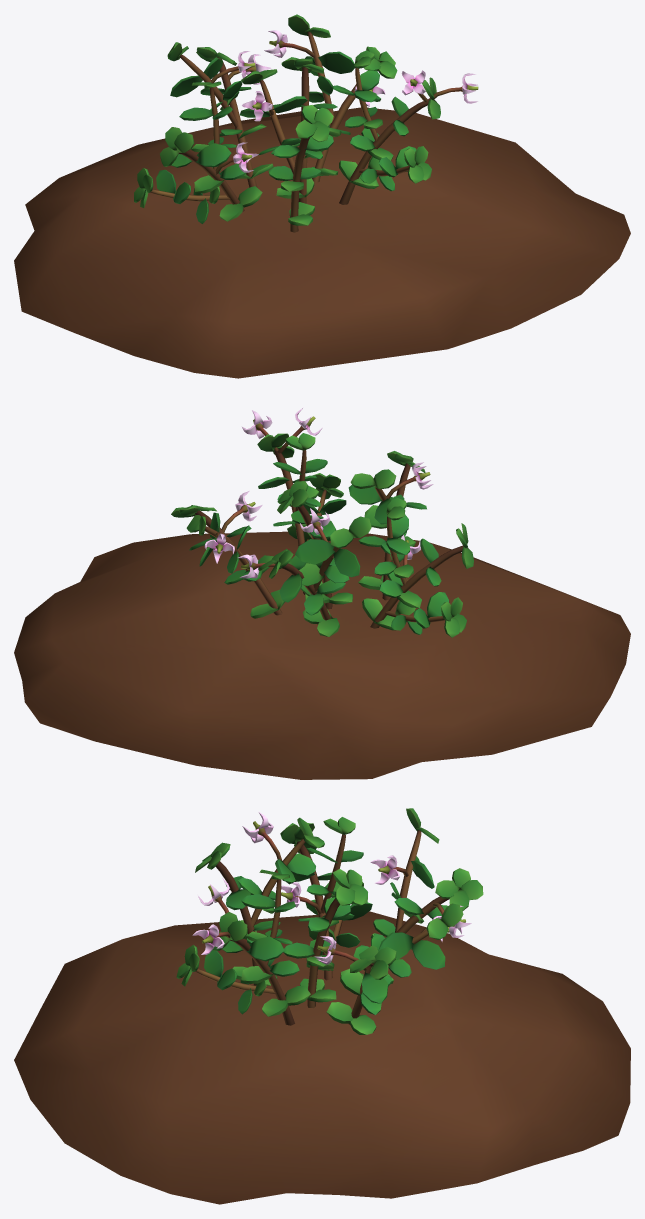
File: SM_PlantSoil_Cranberry_Lv2.fbx
3 renders of one model, top to bottom at view 1: azimuth 30°, elevation 25°; view 2: azimuth 150°, elevation 25°; view 3: azimuth 270°, elevation 25°, orthographic. The views are drawn at different scales.
Visible parts, largest first — view 1: SM_PlantSoil_Cranberry_Lv2; view 2: SM_PlantSoil_Cranberry_Lv2; view 3: SM_PlantSoil_Cranberry_Lv2.
Part boxes in pixels (<box>): SM_PlantSoil_Cranberry_Lv2: <box>14,14,630,378</box>; SM_PlantSoil_Cranberry_Lv2: <box>14,407,630,779</box>; SM_PlantSoil_Cranberry_Lv2: <box>14,808,630,1204</box>.
Size of the model in its own units: 118 by 45.01 by 106.
